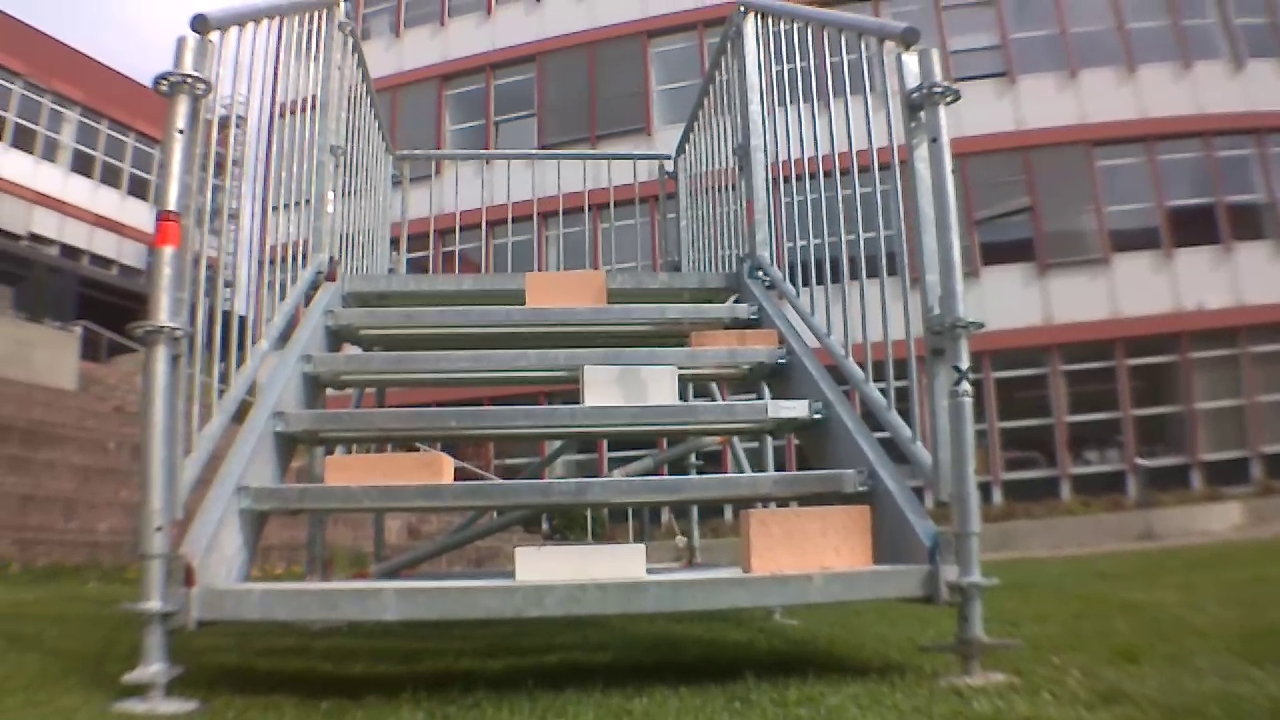brick: (737, 504, 872, 573), (517, 541, 646, 581), (324, 447, 457, 484), (519, 268, 608, 307), (583, 366, 677, 400), (691, 331, 779, 350)
edge: (209, 561, 937, 618), (240, 463, 872, 515), (273, 399, 834, 433), (298, 344, 789, 377), (326, 302, 764, 326), (342, 273, 741, 294)
stairs: (149, 0, 976, 655)
steps: (188, 266, 951, 621)
